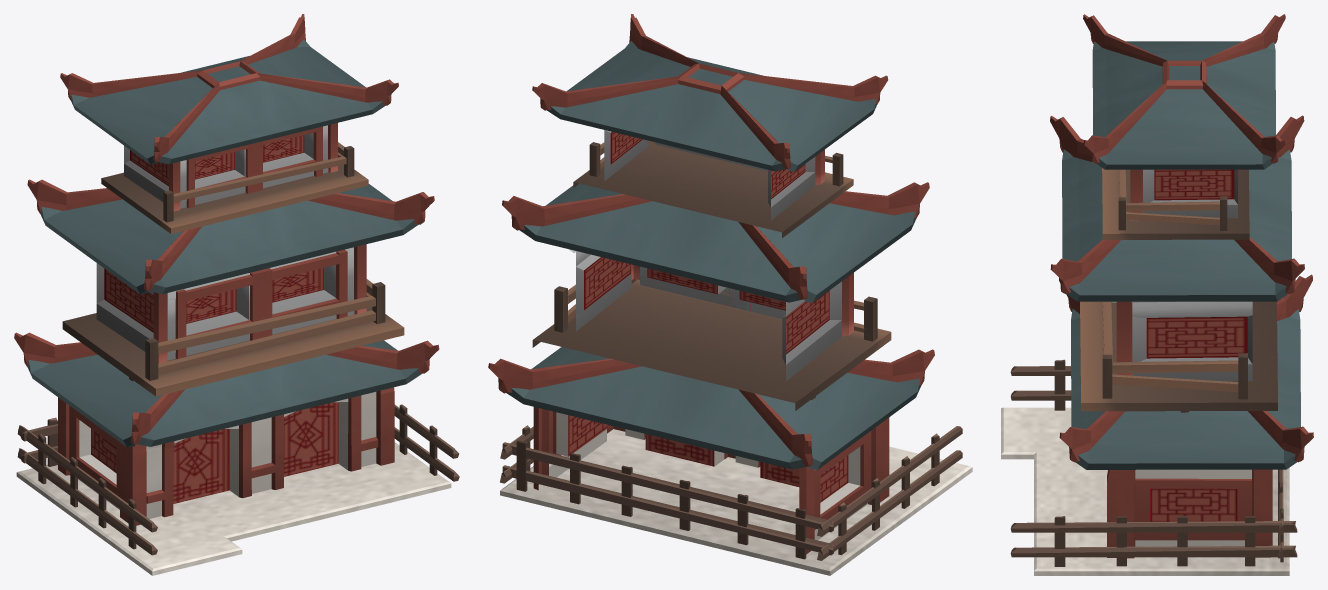
The model's file is Camp_3lvl.fbx.
3 renders of one model, left to right at view 1: azimuth 30°, elevation 25°; view 2: azimuth 150°, elevation 25°; view 3: azimuth 270°, elevation 25°, orthographic. The views are drawn at different scales.
Visible parts, largest first — view 1: Camp_3lvl; view 2: Camp_3lvl; view 3: Camp_3lvl.
Boxes of the visible parts, <box> form: Camp_3lvl: <box>14,14,459,575</box>; Camp_3lvl: <box>488,14,972,575</box>; Camp_3lvl: <box>1001,14,1313,575</box>.
Bounding box in the file's own units: 6.01 × 7.31 × 4.86.
1 material, 1 textured.
